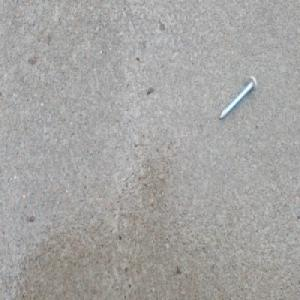Nail: (218, 75, 257, 123)
